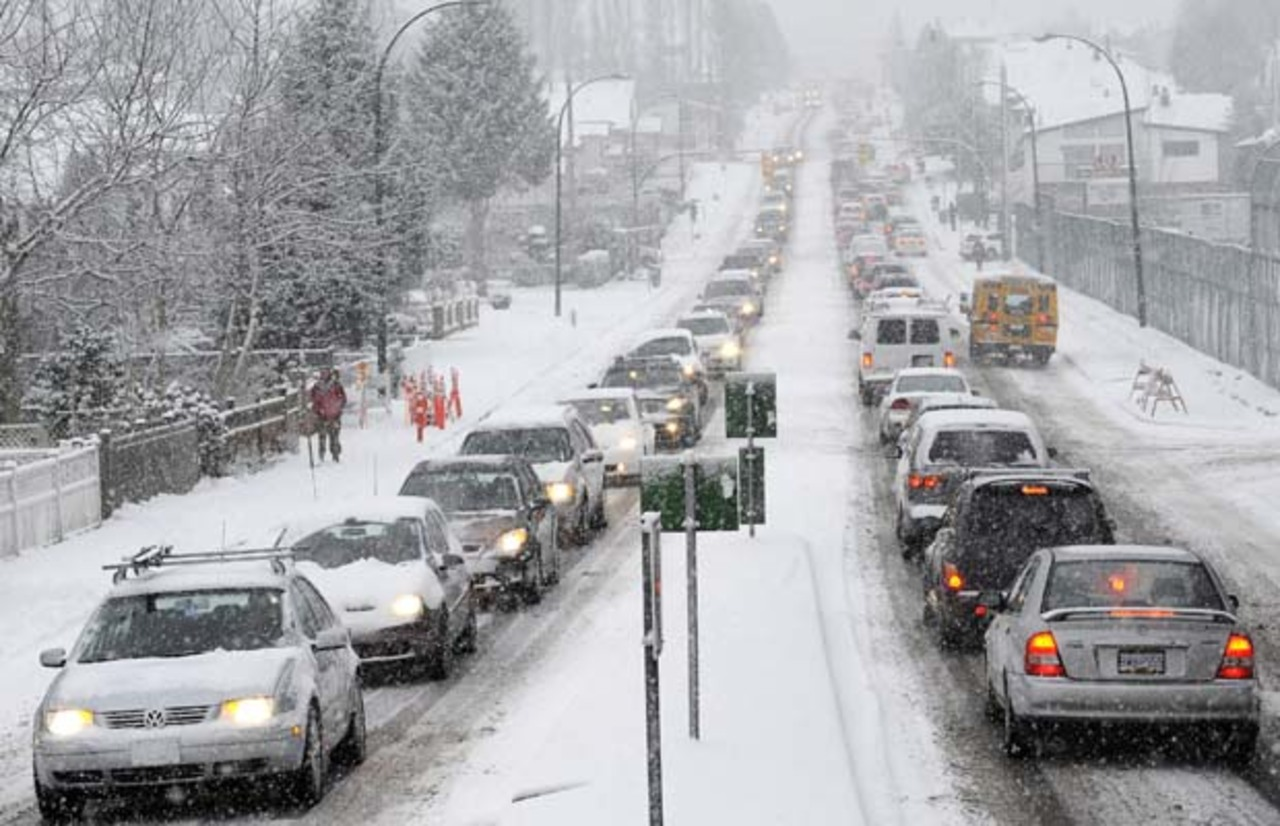car: (29, 548, 373, 821), (979, 547, 1265, 763), (265, 494, 477, 679), (922, 471, 1112, 650), (396, 460, 562, 607), (891, 410, 1053, 558), (452, 421, 606, 546), (962, 267, 1062, 367), (595, 359, 697, 447), (877, 370, 988, 445), (848, 308, 950, 389), (561, 392, 653, 479), (627, 330, 708, 386), (675, 311, 742, 372), (696, 274, 755, 321), (716, 251, 767, 283), (744, 235, 781, 272), (872, 269, 916, 298), (752, 208, 789, 241), (891, 225, 927, 256), (846, 256, 868, 284)
person: (309, 366, 342, 460)
